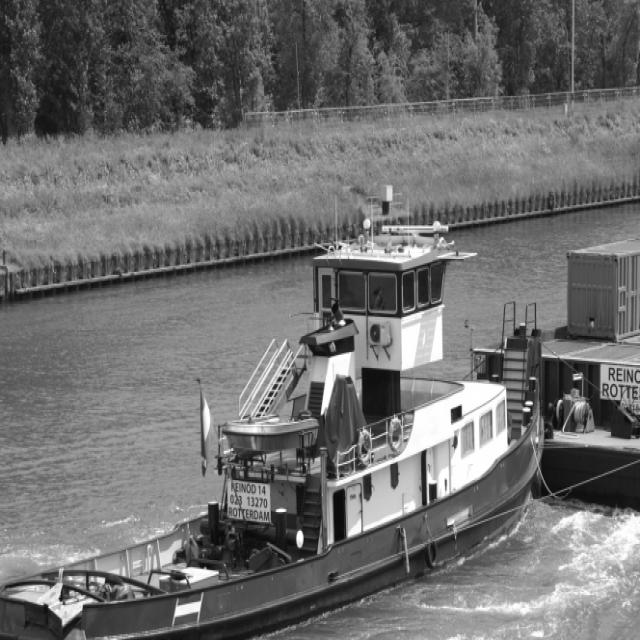tugboat: (1, 180, 549, 640)
